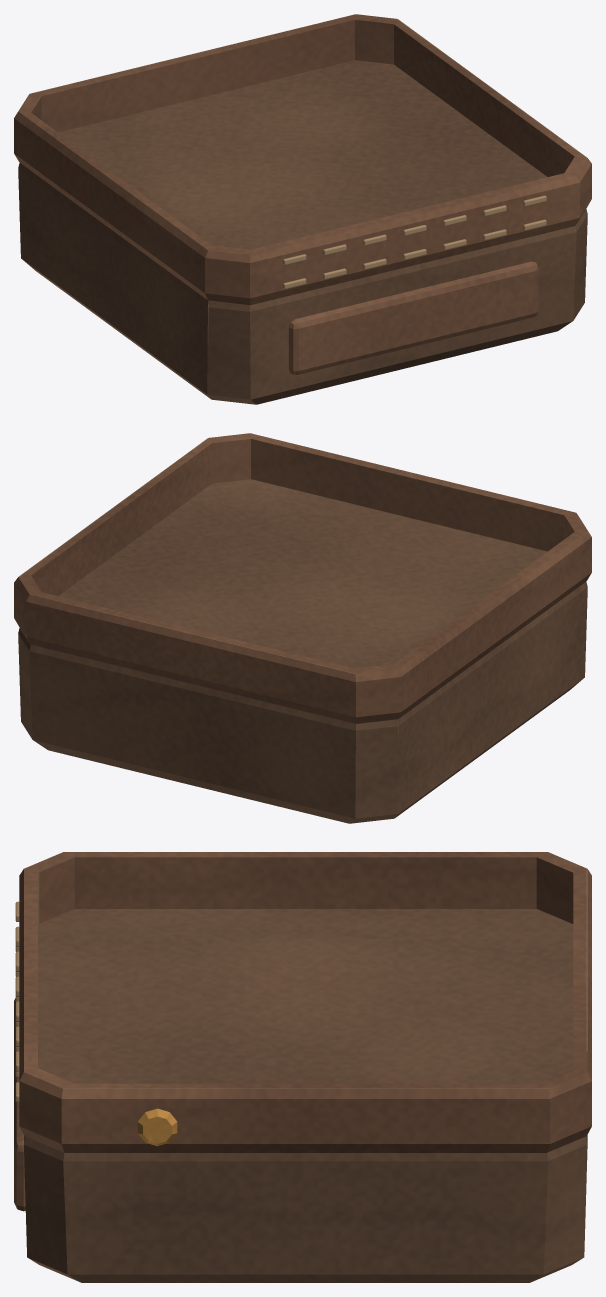
Rendered from 08_Gant_G.fbx.
The picture shows the model from 3 angles, top to bottom: view 1: azimuth 30°, elevation 25°; view 2: azimuth 150°, elevation 25°; view 3: azimuth 270°, elevation 25°; orthographic projection. The views are drawn at different scales.
Parts seen in each view (by area): view 1: 08_Gant_G; view 2: 08_Gant_G; view 3: 08_Gant_G.
Boxes of the visible parts, x1,y1,x2,y2 form: 08_Gant_G: [14, 14, 591, 404]; 08_Gant_G: [14, 433, 591, 823]; 08_Gant_G: [14, 852, 591, 1282].
Size of the model in its own units: 1.06 by 0.405 by 1.06.
1 material, 1 textured.
